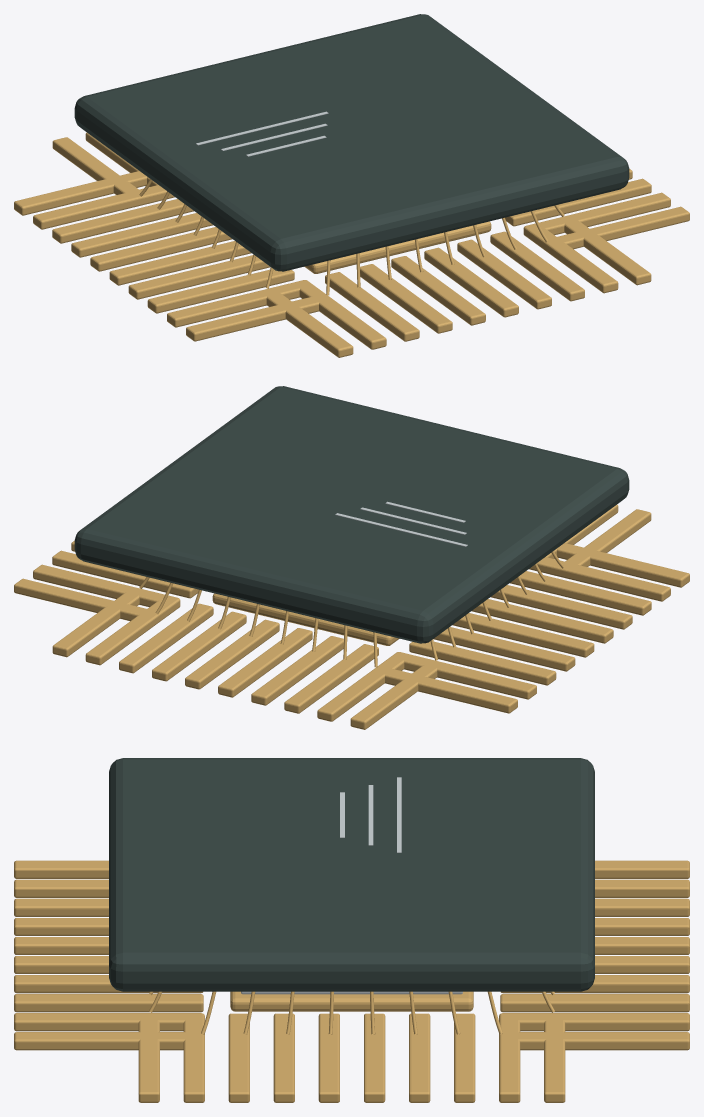
Rendered from semiconductor.glb.
3 renders of one model, top to bottom at view 1: azimuth 30°, elevation 25°; view 2: azimuth 150°, elevation 25°; view 3: azimuth 270°, elevation 25°, orthographic. The views are drawn at different scales.
Parts seen in each view (by area): view 1: Molded cap, Lead_2_2, Lead_2_5, Lead_2_6, Lead_2_3, Lead_2_4, Lead_2_7, Lead_2_8, Lead_2_0, Lead_2_1, Lead_2_9, Lead_3_0 (+14 smaller); view 2: Molded cap, Lead_2_7, Lead_2_4, Lead_2_3, Lead_2_6, Lead_2_5, Lead_2_2, Lead_2_1, Lead_2_9, Lead_2_8, Lead_2_0, Lead_1_4 (+14 smaller); view 3: Molded cap, Die paddle, Lead_0_7, Lead_1_7, Lead_1_9, Lead_0_9, Lead_0_8, Lead_1_8, Lead_0_6, Lead_1_6, Lead_3_2, Lead_3_7 (+21 smaller).
Part boxes in pixels (x1,y1,x2,y2): Molded cap: [74, 14, 629, 271]; Lead_2_2: [147, 269, 294, 313]; Lead_2_5: [90, 227, 232, 271]; Lead_2_6: [71, 213, 213, 257]; Lead_2_3: [128, 255, 270, 299]; Lead_2_4: [109, 241, 251, 285]; Lead_2_7: [52, 199, 193, 243]; Lead_2_8: [33, 185, 174, 229]; Lead_2_0: [186, 294, 328, 341]; Lead_2_1: [167, 280, 305, 327]; Lead_2_9: [14, 171, 146, 215]; Lead_3_0: [549, 206, 689, 249]; Molded cap: [74, 386, 629, 643]; Lead_2_7: [409, 641, 556, 685]; Lead_2_4: [471, 599, 613, 643]; Lead_2_3: [490, 585, 632, 629]; Lead_2_6: [433, 627, 575, 671]; Lead_2_5: [452, 613, 594, 657]; Lead_2_2: [510, 571, 651, 615]; Lead_2_1: [529, 557, 670, 601]; Lead_2_9: [375, 666, 517, 713]; Lead_2_8: [398, 652, 536, 699]; Lead_2_0: [557, 543, 689, 587]; Lead_1_4: [218, 628, 312, 697]; Molded cap: [109, 758, 594, 991]; Die paddle: [230, 991, 473, 1011]; Lead_0_7: [14, 994, 203, 1012]; Lead_1_7: [500, 994, 689, 1012]; Lead_1_9: [502, 1032, 689, 1050]; Lead_0_9: [14, 1032, 201, 1050]; Lead_0_8: [14, 1013, 202, 1031]; Lead_1_8: [501, 1013, 689, 1031]; Lead_0_6: [14, 975, 202, 993]; Lead_1_6: [501, 975, 689, 993]; Lead_3_2: [228, 1013, 249, 1102]; Lead_3_7: [454, 1013, 475, 1102].
Bounding box in the file's own units: 5.7 × 0.995 × 5.7.
